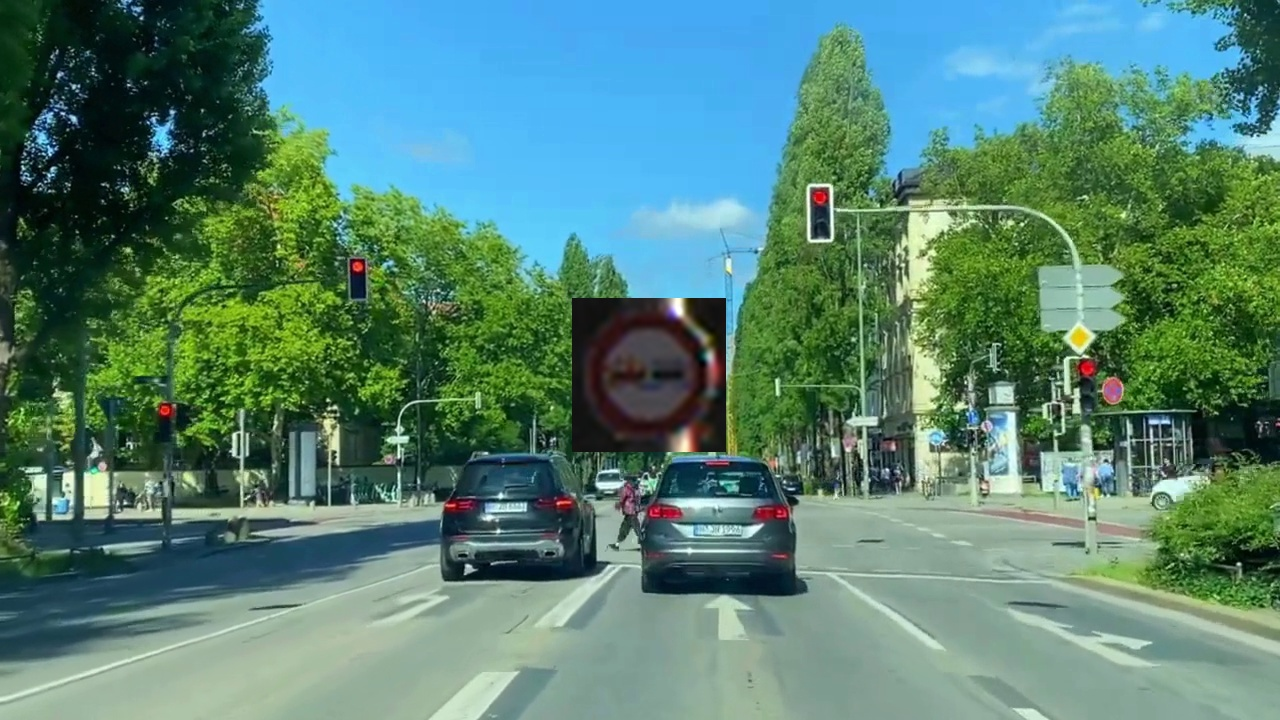No passing: (572, 298, 726, 452)
